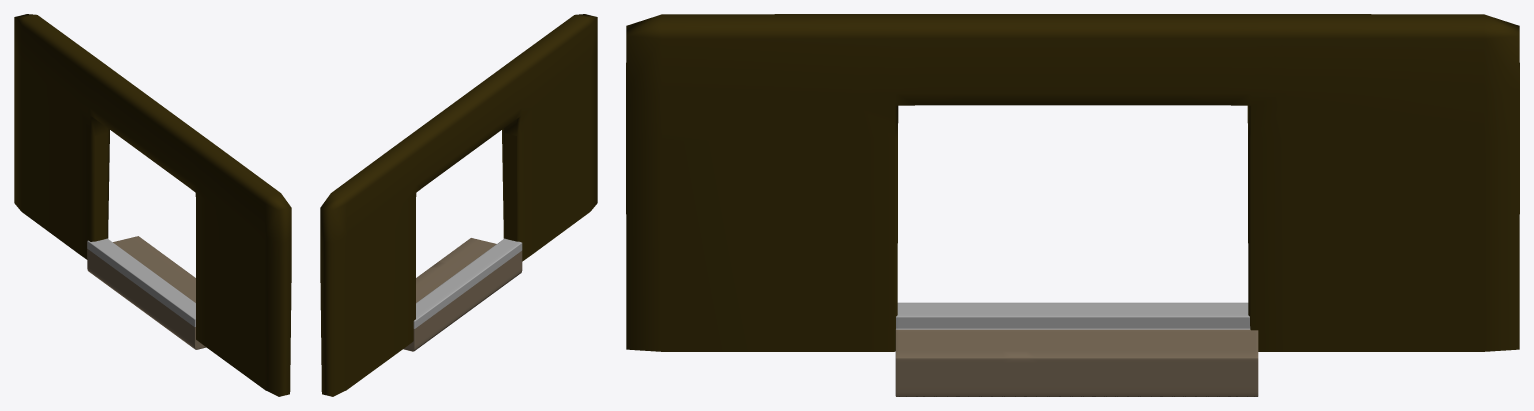
Rendered from Arch_and_Counter_Final.fbx.
3 views of the same model, side by side, from view 1: azimuth 30°, elevation 25°; view 2: azimuth 150°, elevation 25°; view 3: azimuth 270°, elevation 25° (orthographic). The views are drawn at different scales.
Parts seen in each view (by area): view 1: Arch, Counter2; view 2: Arch, Counter2; view 3: Arch, Counter2.
Part boxes in pixels (x1,y1,x2,y2): Arch: (14, 14, 291, 396); Counter2: (87, 236, 206, 349); Arch: (320, 14, 597, 396); Counter2: (403, 238, 522, 351); Arch: (626, 14, 1519, 351); Counter2: (895, 302, 1258, 396).
Size of the model in its own units: 1.39 by 5.28 by 12.41.
